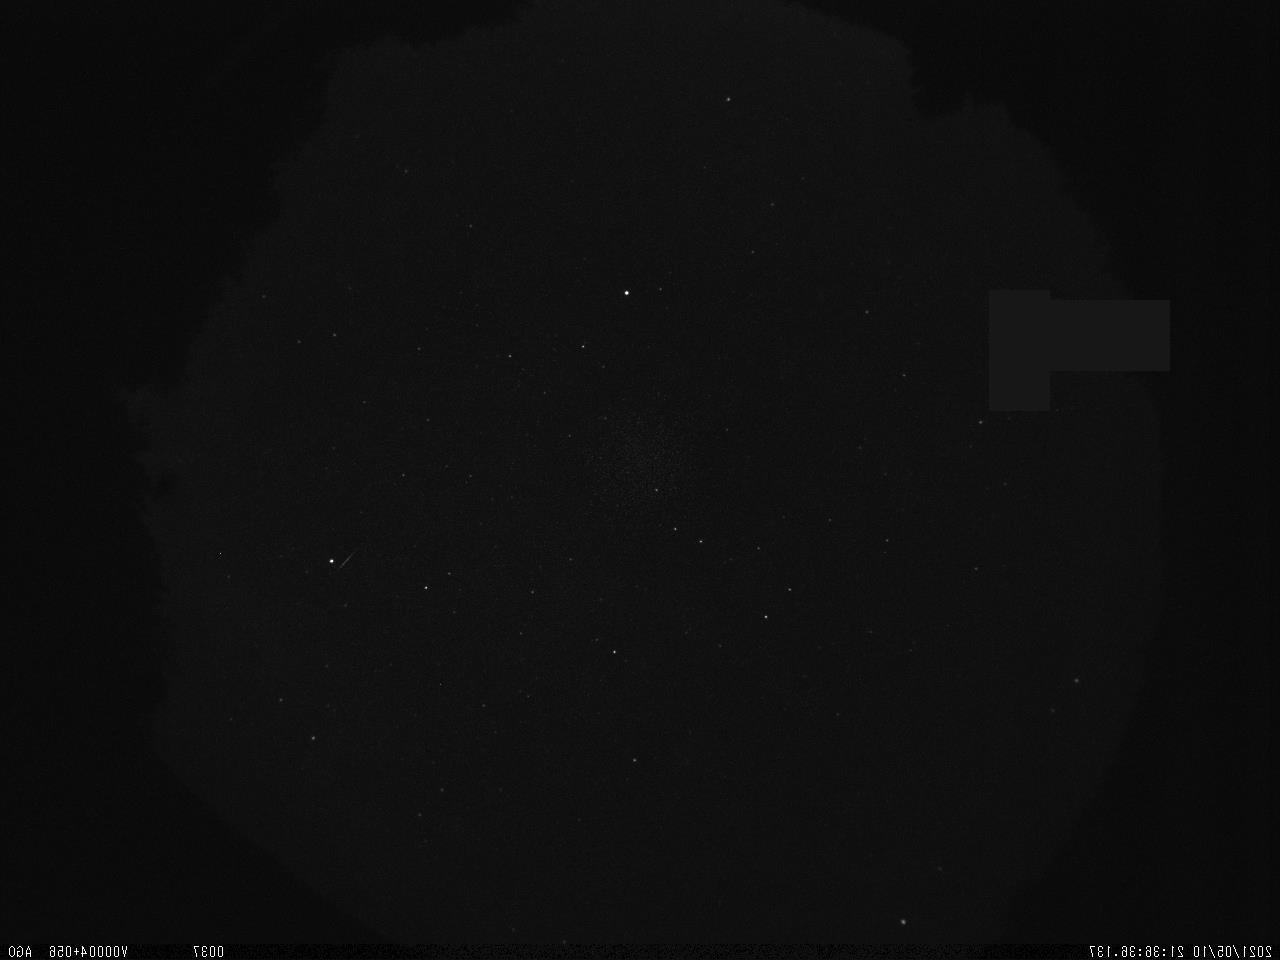meteor: (335, 535, 370, 575)
